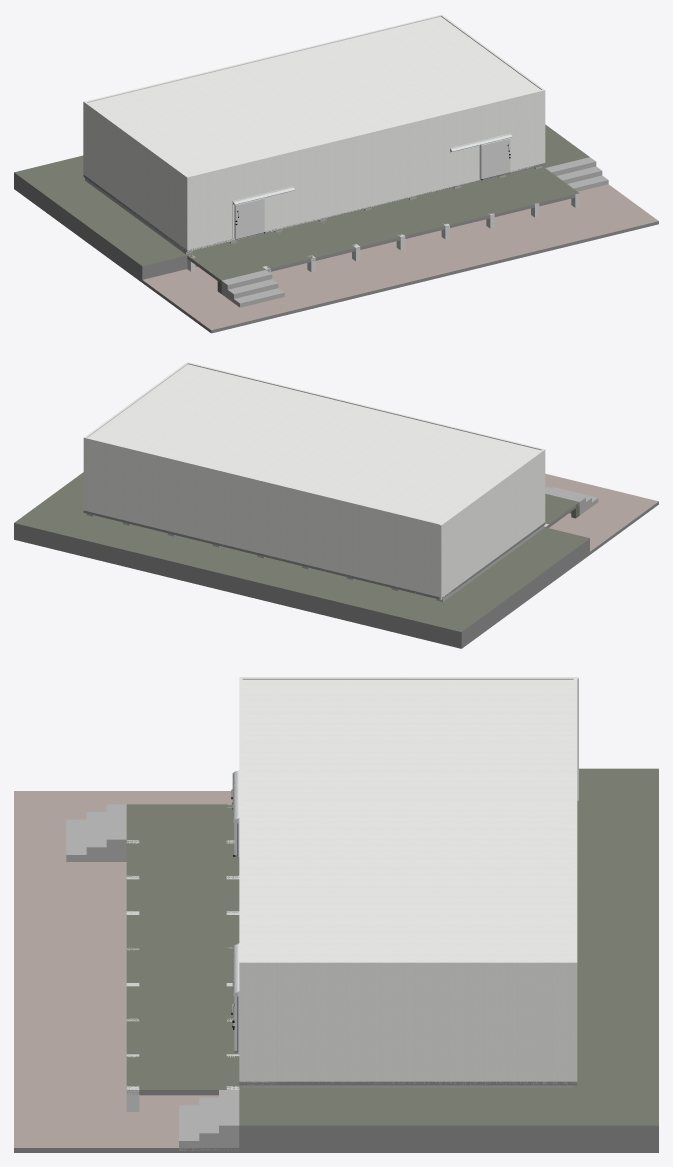
3 renders of one model, top to bottom at view 1: azimuth 30°, elevation 25°; view 2: azimuth 150°, elevation 25°; view 3: azimuth 270°, elevation 25°, orthographic. The views are drawn at different scales.
Parts seen in each view (by area): view 1: 75mm Metal Roof Deck, Exterior - 125mm Concrete 2 (×3), 200mm Concrete With 50mm Metal Deck 2, 160mm Concrete With 50mm Metal Deck, 1070mm Concrete With 50mm Metal Deck 2, 6'-0" x 7'-0" (×2), Railings 1 (×2), 150mm Concrete With 50mm Metal Deck 2, Cot chan; view 2: Exterior - 125mm Concrete 2 (×4), 75mm Metal Roof Deck, 1070mm Concrete With 50mm Metal Deck 2, 200mm Concrete With 50mm Metal Deck 2, 150mm Concrete With 50mm Metal Deck 2, 160mm Concrete With 50mm Metal Deck, Railings 1, Cot chan; view 3: 75mm Metal Roof Deck, 1070mm Concrete With 50mm Metal Deck 2, Exterior - 125mm Concrete 2 (×4), 200mm Concrete With 50mm Metal Deck 2, 160mm Concrete With 50mm Metal Deck, Railings 1 (×2), 150mm Concrete With 50mm Metal Deck 2, Cot chan, 6'-0" x 7'-0".
Part boxes in pixels (x1,y1,x2,y2): 75mm Metal Roof Deck: [83, 16, 545, 179]; Exterior - 125mm Concrete 2 (×3): [83, 15, 545, 251]; 200mm Concrete With 50mm Metal Deck 2: [142, 184, 658, 333]; 160mm Concrete With 50mm Metal Deck: [187, 168, 579, 283]; 1070mm Concrete With 50mm Metal Deck 2: [14, 124, 589, 282]; 6'-0" x 7'-0" (×2): [232, 133, 512, 239]; Railings 1 (×2): [221, 157, 608, 307]; 150mm Concrete With 50mm Metal Deck 2: [83, 163, 545, 252]; Cot chan: [85, 166, 542, 254]; Exterior - 125mm Concrete 2 (×4): [83, 362, 545, 600]; 75mm Metal Roof Deck: [83, 364, 545, 526]; 1070mm Concrete With 50mm Metal Deck 2: [14, 472, 589, 648]; 200mm Concrete With 50mm Metal Deck 2: [545, 473, 658, 554]; 150mm Concrete With 50mm Metal Deck 2: [83, 510, 545, 599]; 160mm Concrete With 50mm Metal Deck: [544, 493, 579, 527]; Railings 1: [545, 487, 598, 515]; Cot chan: [86, 513, 544, 601]; 75mm Metal Roof Deck: [239, 680, 577, 965]; 1070mm Concrete With 50mm Metal Deck 2: [239, 768, 658, 1152]; Exterior - 125mm Concrete 2 (×4): [239, 677, 578, 1084]; 200mm Concrete With 50mm Metal Deck 2: [14, 791, 239, 1152]; 160mm Concrete With 50mm Metal Deck: [126, 804, 239, 1095]; Railings 1 (×2): [66, 804, 239, 1150]; 150mm Concrete With 50mm Metal Deck 2: [239, 1081, 577, 1085]; Cot chan: [242, 1085, 573, 1088]; 6'-0" x 7'-0": [231, 943, 239, 1053].
Size of the model in its own units: 98.43 by 75.15 by 19.88.
